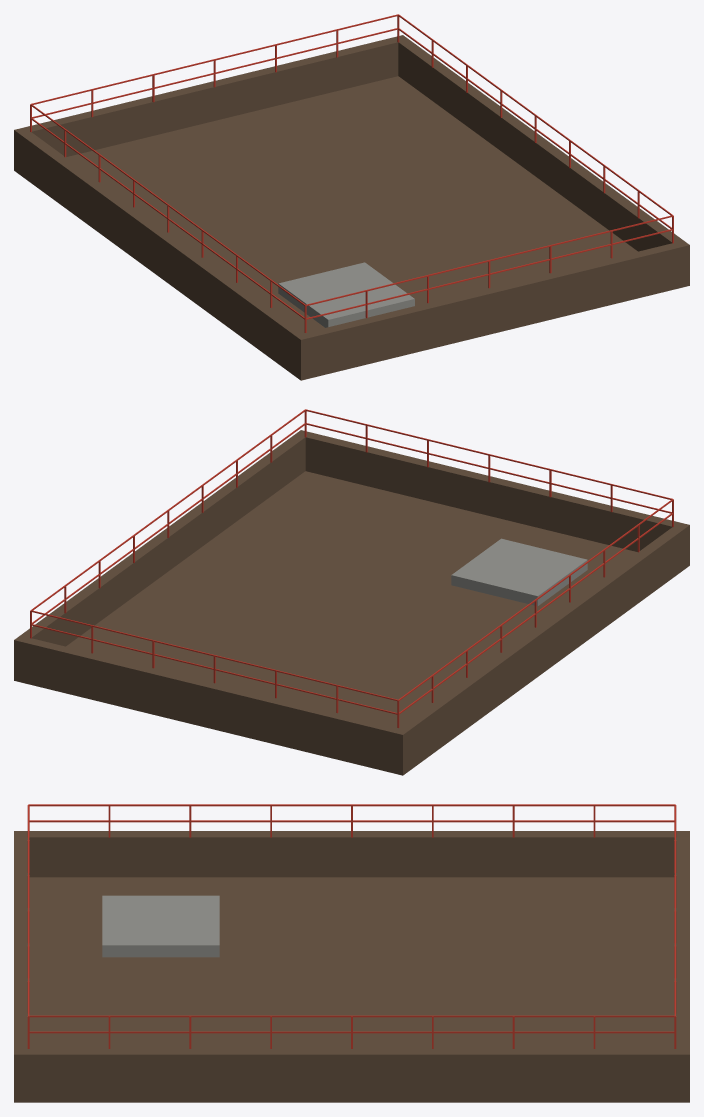
Rendered from pit.glb.
3 views of the same model, one above another, from view 1: azimuth 30°, elevation 25°; view 2: azimuth 150°, elevation 25°; view 3: azimuth 270°, elevation 25° (orthographic). The views are drawn at different scales.
Visible parts, largest first — view 1: Pit; view 2: Pit; view 3: Pit.
Part boxes in pixels (x1=…): Pit: x1=14, y1=14, x2=689, y2=380; Pit: x1=14, y1=409, x2=689, y2=775; Pit: x1=14, y1=804, x2=689, y2=1102.
Size of the model in its own units: 18 by 3.03 by 23.
